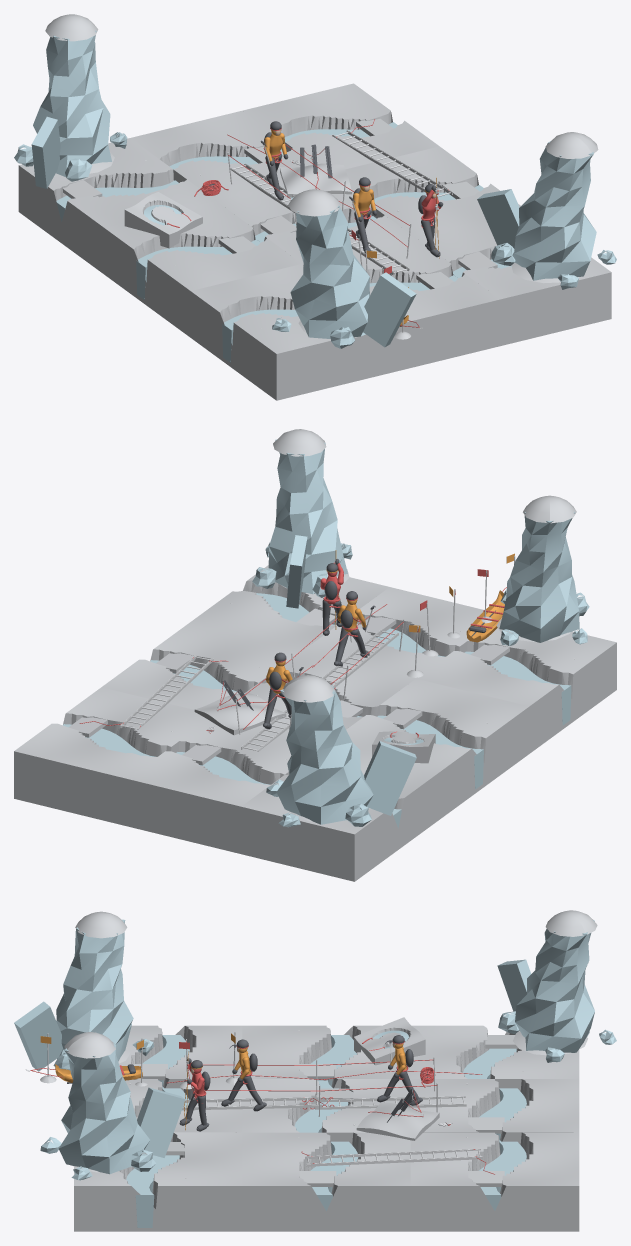
Rendered from mountaineering-and-summit-expedition-icefall-crossing-79505938__18834.glb.
3 renders of one model, top to bottom at view 1: azimuth 30°, elevation 25°; view 2: azimuth 150°, elevation 25°; view 3: azimuth 270°, elevation 25°, orthographic. The views are drawn at different scales.
Visible parts, largest first — view 1: 002-crevasse-module/0, 001-crevasse-module/0, 016-serac-block/0, 015-serac-block/0, 005-crevasse-module/0, 000-crevasse-module/0, 008-crevasse-module/0, 014-serac-block/0, 006-crevasse-module/0, 003-crevasse-module/0, 007-crevasse-module/0, 004-crevasse-module/0 (+13 smaller); view 2: 006-crevasse-module/0, 003-crevasse-module/0, 014-serac-block/0, 000-crevasse-module/0, 001-crevasse-module/0, 002-crevasse-module/0, 015-serac-block/0, 007-crevasse-module/0, 016-serac-block/0, 005-crevasse-module/0, 008-crevasse-module/0, 004-crevasse-module/0 (+16 smaller); view 3: 006-crevasse-module/0, 007-crevasse-module/0, 008-crevasse-module/0, 015-serac-block/0, 014-serac-block/0, 016-serac-block/0, 003-crevasse-module/0, 000-crevasse-module/0, 001-crevasse-module/0, 004-crevasse-module/0, 002-crevasse-module/0, 005-crevasse-module/0 (+19 smaller).
Part boxes in pixels (bbox=[...]): 002-crevasse-module/0: bbox=[190, 264, 388, 400]; 001-crevasse-module/0: bbox=[104, 201, 301, 337]; 016-serac-block/0: bbox=[272, 197, 416, 348]; 015-serac-block/0: bbox=[477, 141, 616, 289]; 005-crevasse-module/0: bbox=[302, 236, 499, 373]; 000-crevasse-module/0: bbox=[18, 138, 215, 274]; 008-crevasse-module/0: bbox=[414, 219, 611, 346]; 014-serac-block/0: bbox=[14, 30, 127, 188]; 006-crevasse-module/0: bbox=[242, 83, 439, 169]; 003-crevasse-module/0: bbox=[131, 111, 312, 200]; 007-crevasse-module/0: bbox=[345, 146, 520, 236]; 004-crevasse-module/0: bbox=[217, 184, 413, 263]; 006-crevasse-module/0: bbox=[14, 687, 207, 826]; 003-crevasse-module/0: bbox=[127, 720, 291, 853]; 014-serac-block/0: bbox=[266, 685, 416, 827]; 000-crevasse-module/0: bbox=[241, 750, 441, 881]; 001-crevasse-module/0: bbox=[346, 678, 529, 817]; 002-crevasse-module/0: bbox=[416, 628, 616, 753]; 015-serac-block/0: bbox=[252, 439, 352, 608]; 007-crevasse-module/0: bbox=[102, 623, 301, 709]; 016-serac-block/0: bbox=[499, 512, 589, 645]; 005-crevasse-module/0: bbox=[303, 587, 483, 678]; 008-crevasse-module/0: bbox=[189, 565, 389, 650]; 004-crevasse-module/0: bbox=[246, 651, 415, 732]; 006-crevasse-module/0: bbox=[410, 1132, 579, 1231]; 007-crevasse-module/0: bbox=[242, 1132, 410, 1231]; 008-crevasse-module/0: bbox=[74, 1132, 242, 1231]; 015-serac-block/0: bbox=[40, 1043, 185, 1180]; 014-serac-block/0: bbox=[497, 920, 616, 1062]; 016-serac-block/0: bbox=[14, 919, 153, 1071]; 003-crevasse-module/0: bbox=[410, 1079, 579, 1141]; 000-crevasse-module/0: bbox=[410, 1025, 579, 1088]; 001-crevasse-module/0: bbox=[242, 1025, 410, 1088]; 004-crevasse-module/0: bbox=[242, 1079, 410, 1141]; 002-crevasse-module/0: bbox=[119, 1025, 242, 1088]; 005-crevasse-module/0: bbox=[125, 1079, 242, 1132].
Size of the model in its own units: 9.84 by 4.77 by 14.32.
